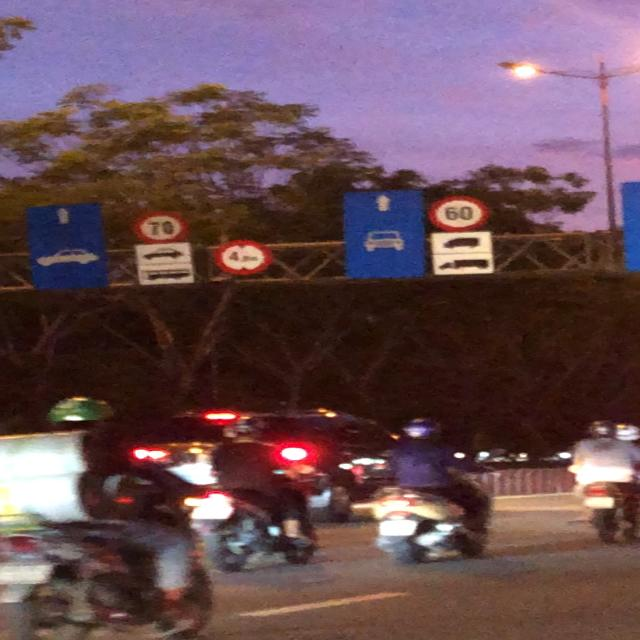Bien bao han che chieu cao: (215, 239, 280, 278)
Bien bao toc do toi da cho phep: (422, 192, 492, 233), (126, 210, 196, 248)
